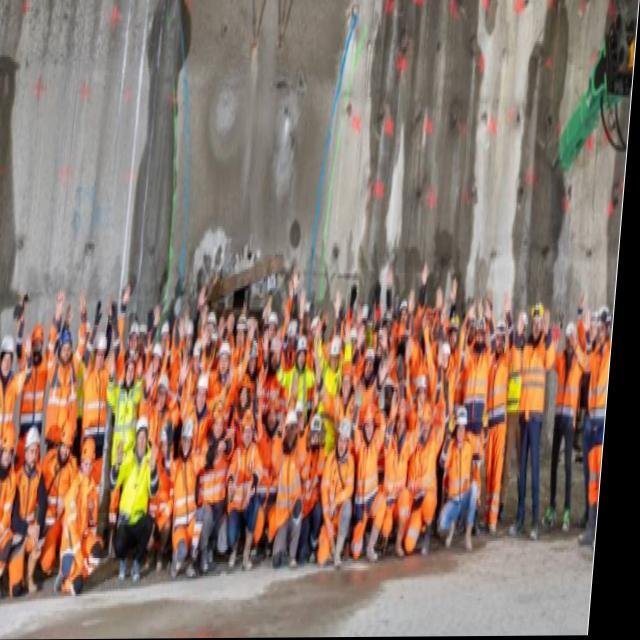hard_hat: (57, 418, 75, 467), (23, 427, 42, 472), (29, 322, 47, 364), (335, 417, 352, 461), (528, 301, 546, 342), (133, 417, 150, 459), (79, 437, 96, 479), (0, 335, 16, 379), (56, 328, 75, 365), (178, 417, 195, 458), (239, 409, 256, 449), (283, 409, 299, 450), (361, 404, 377, 445), (595, 307, 613, 343), (92, 331, 109, 368), (308, 415, 324, 452), (264, 394, 280, 431), (76, 320, 92, 355), (393, 404, 409, 439), (237, 372, 252, 409), (195, 375, 209, 414), (418, 402, 432, 441), (216, 341, 231, 377), (328, 334, 343, 369), (492, 320, 508, 352), (211, 402, 226, 436), (472, 316, 488, 347), (454, 408, 469, 441), (156, 376, 170, 411), (234, 312, 248, 345), (183, 317, 195, 351), (127, 322, 140, 353), (363, 348, 376, 379), (296, 336, 309, 367), (415, 374, 428, 404), (564, 322, 576, 353), (151, 343, 163, 373), (267, 311, 280, 338), (589, 310, 599, 344), (440, 343, 451, 369), (206, 311, 218, 334), (399, 299, 409, 326), (310, 316, 322, 338)
